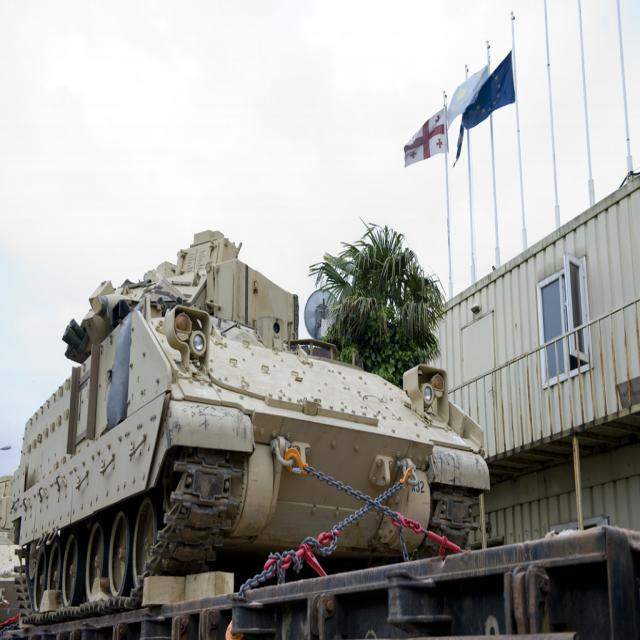tank: (10, 226, 491, 625)
